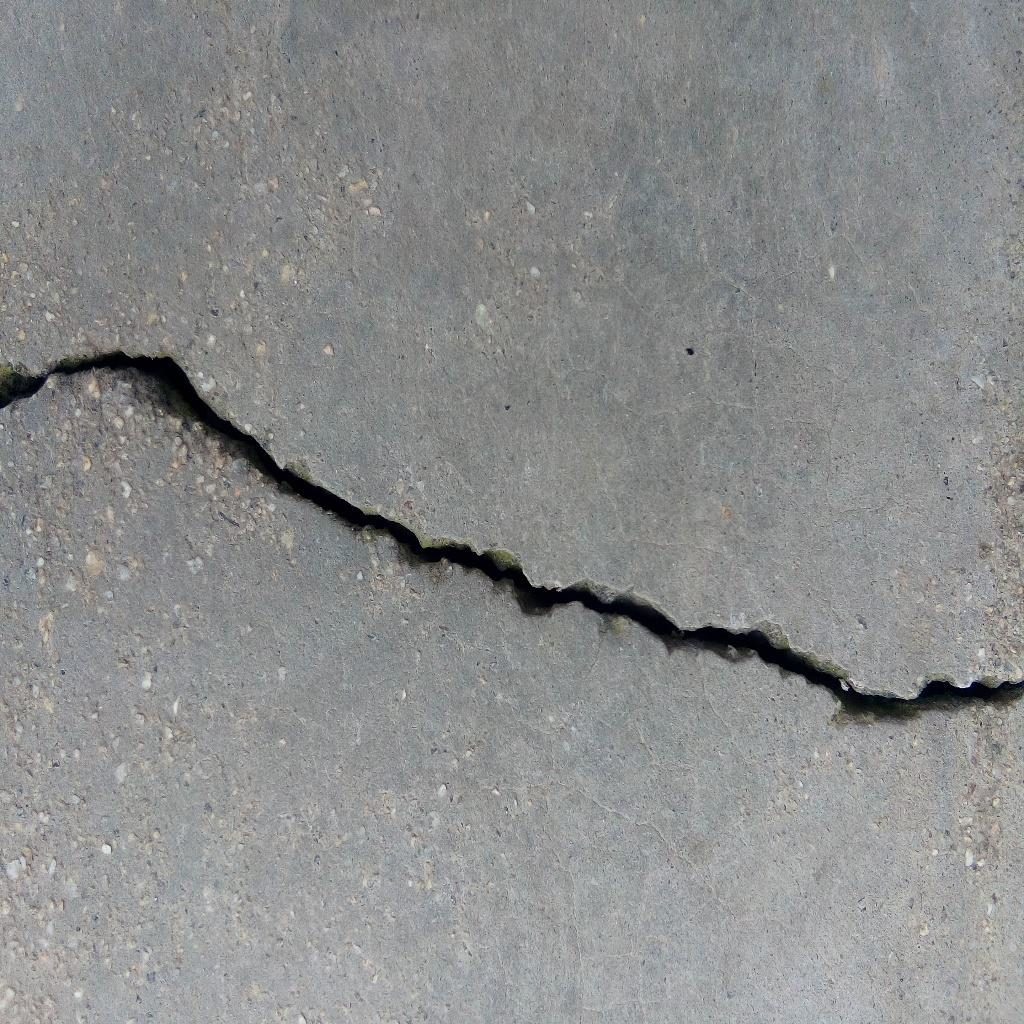Crack: (1, 349, 1024, 729)
